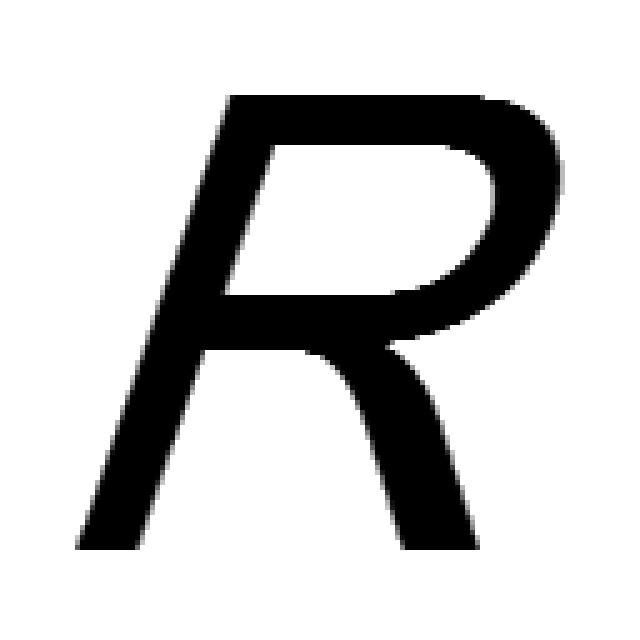R: (65, 80, 565, 560)
